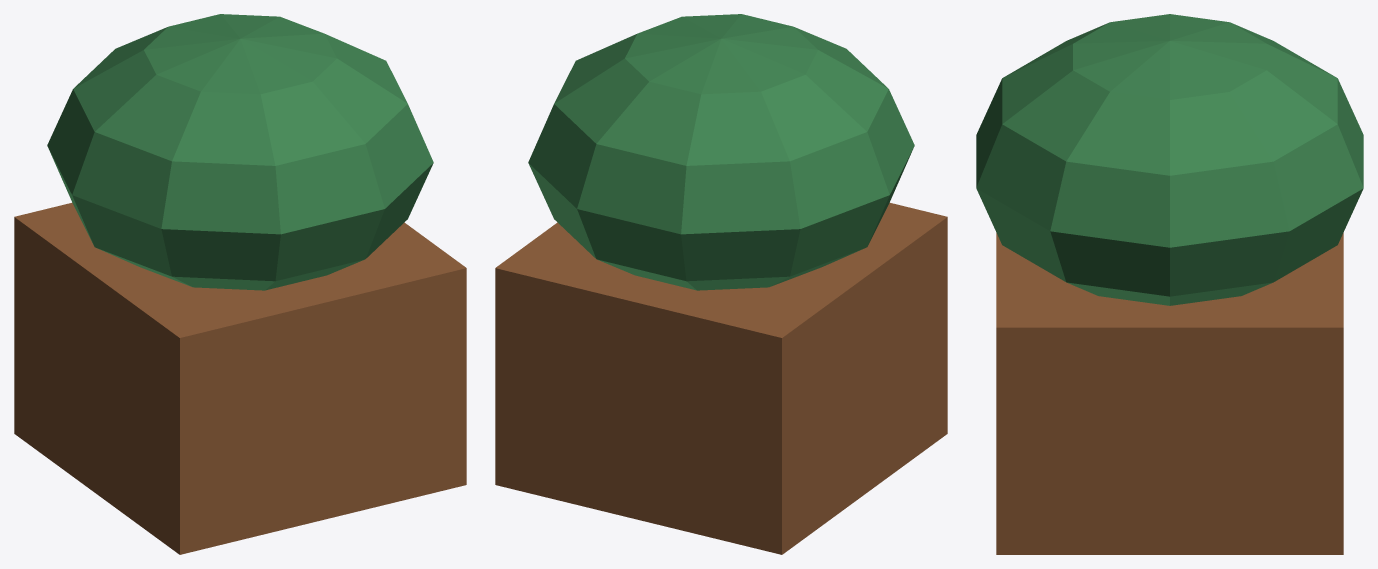
File: prop_planter.glb
3 renders of one model, left to right at view 1: azimuth 30°, elevation 25°; view 2: azimuth 150°, elevation 25°; view 3: azimuth 270°, elevation 25°, orthographic. The views are drawn at different scales.
Visible parts, largest first — view 1: rough; view 2: rough; view 3: rough.
Part boxes in pixels (x1,y1,x2,y2): rough: [14, 14, 466, 554]; rough: [495, 14, 947, 554]; rough: [976, 14, 1363, 554].
Bounding box in the file's own units: 1.06 × 1.26 × 1.
